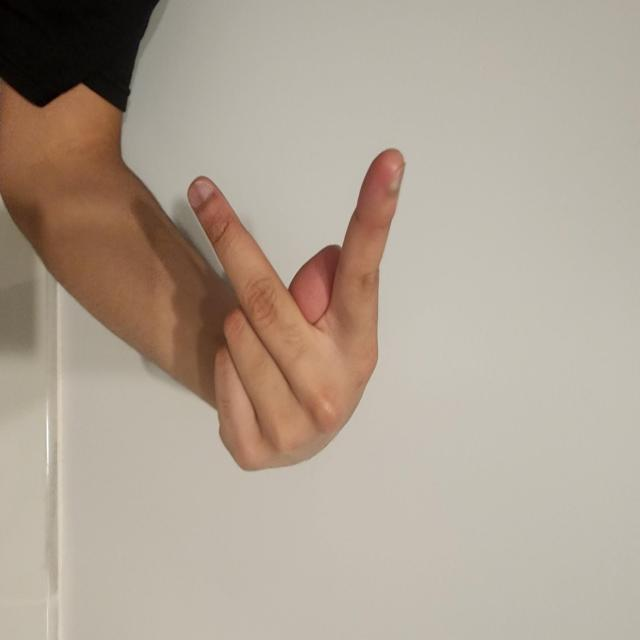P: (267, 310, 517, 611)
